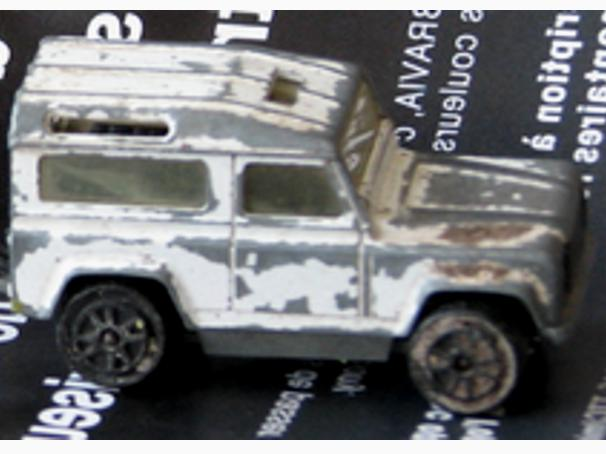toy-car: (0, 32, 601, 416)
